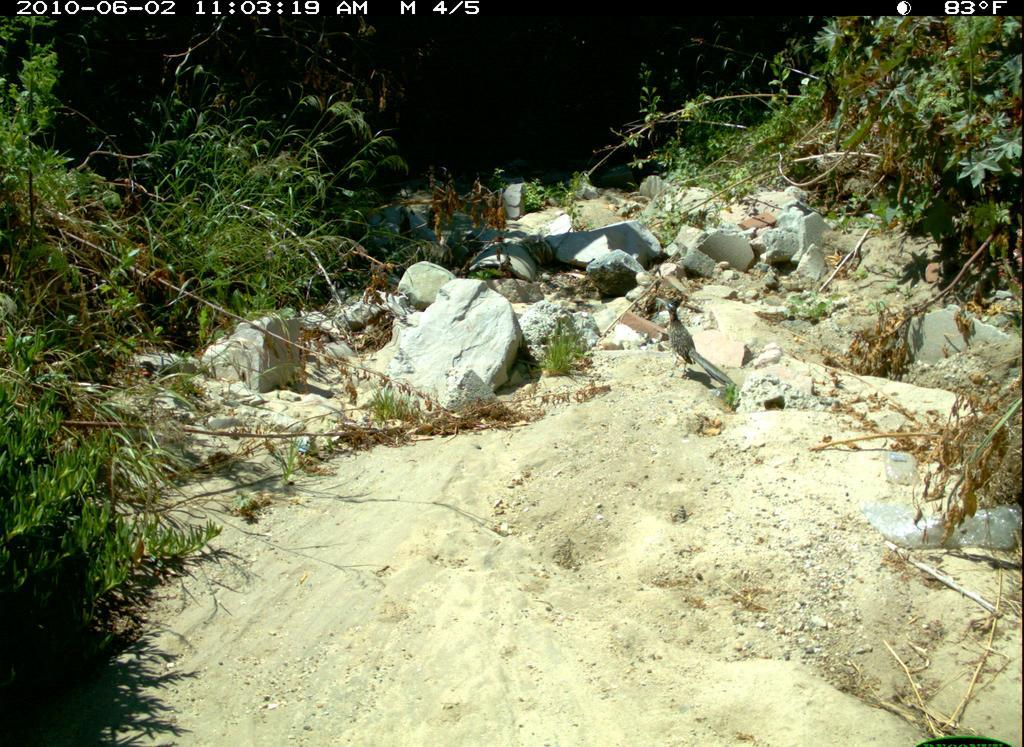bird: (658, 284, 743, 413)
